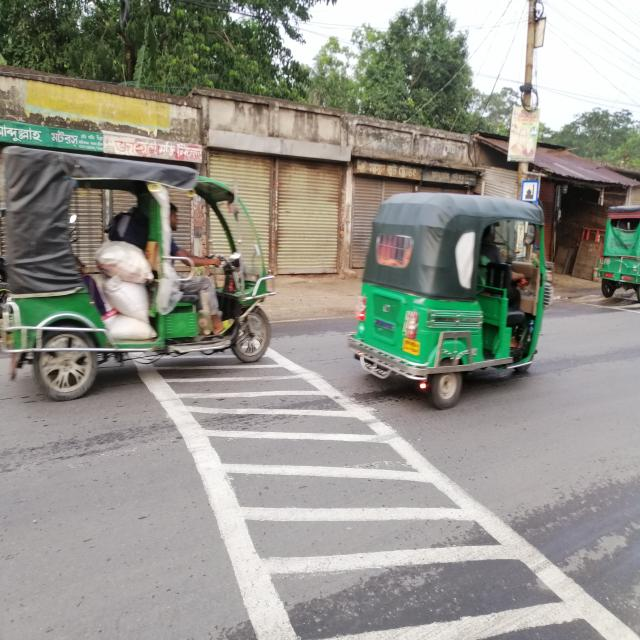CNG: (342, 175, 562, 415)
Easybike: (1, 146, 277, 411)
